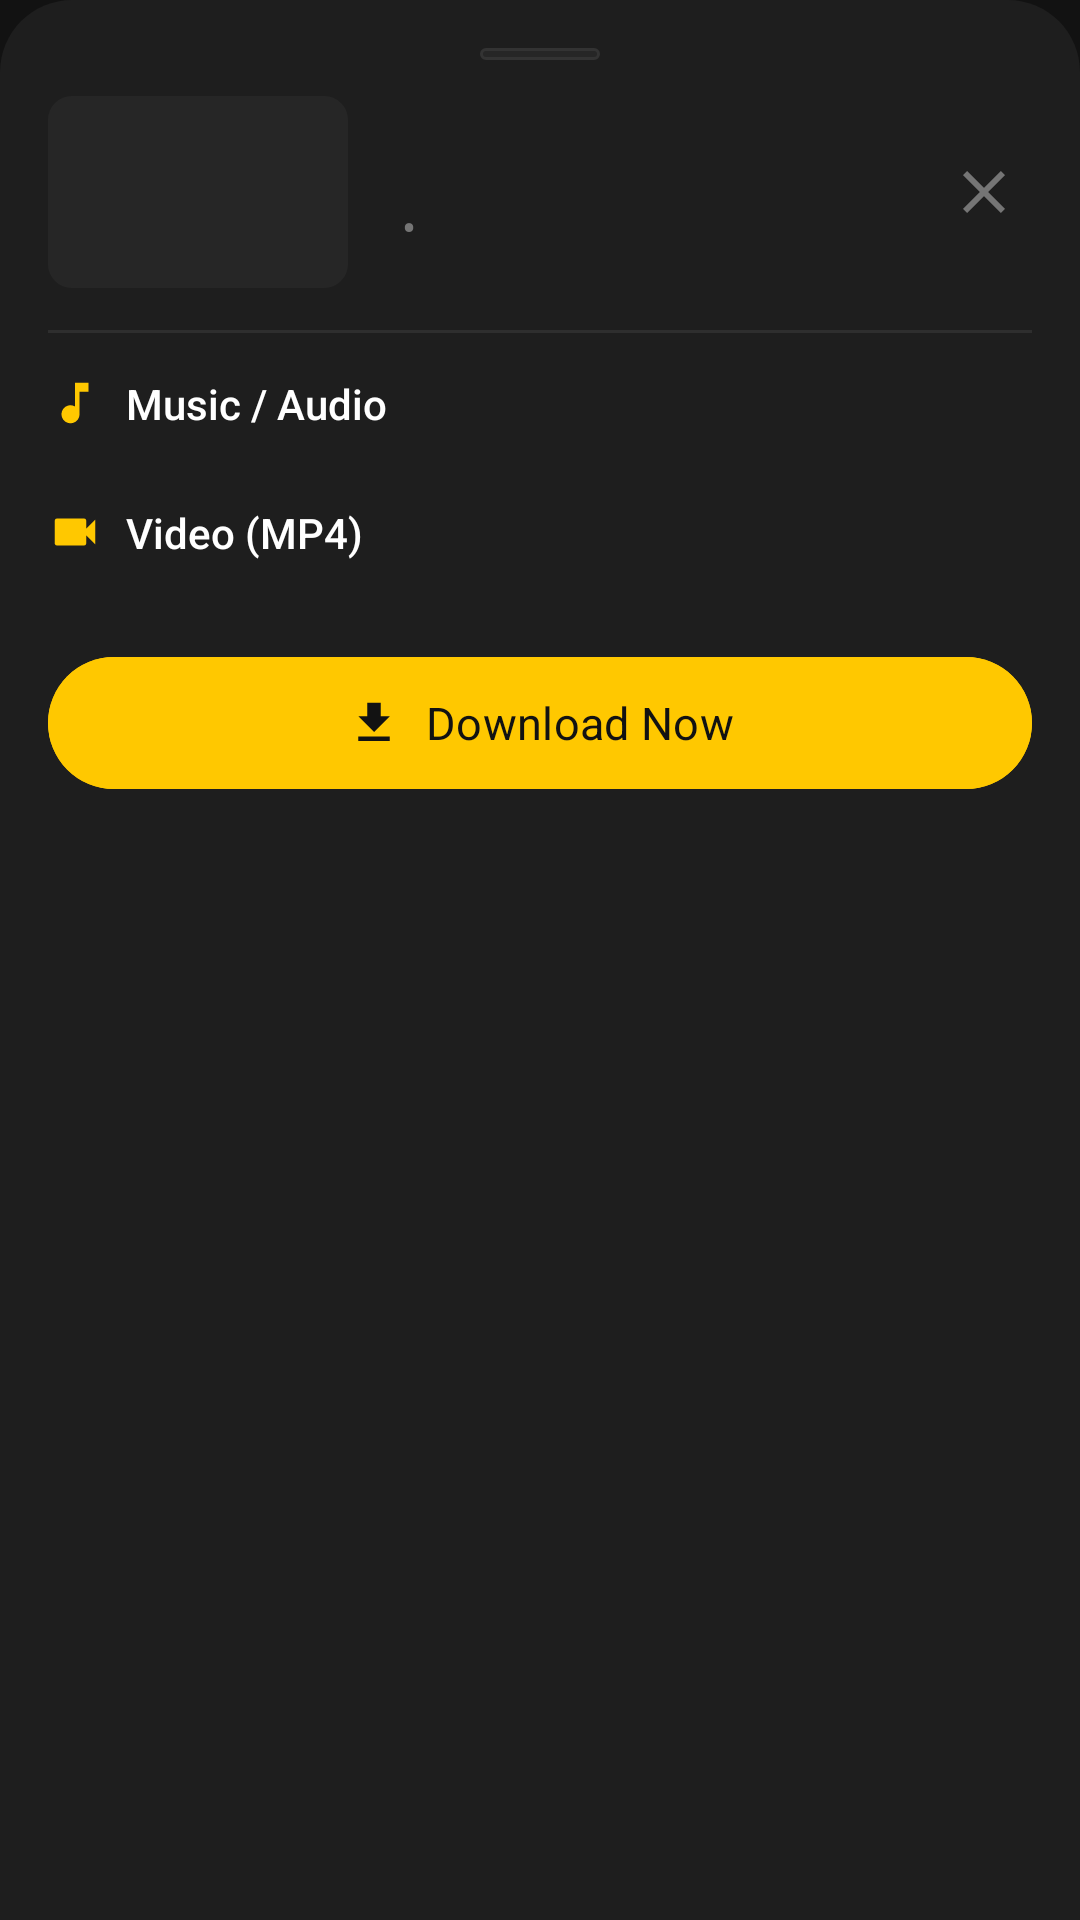

Point at icon controls on the screen. Image size 1080x1920, points as (x=x, y=y).
close: (x=984, y=192)
